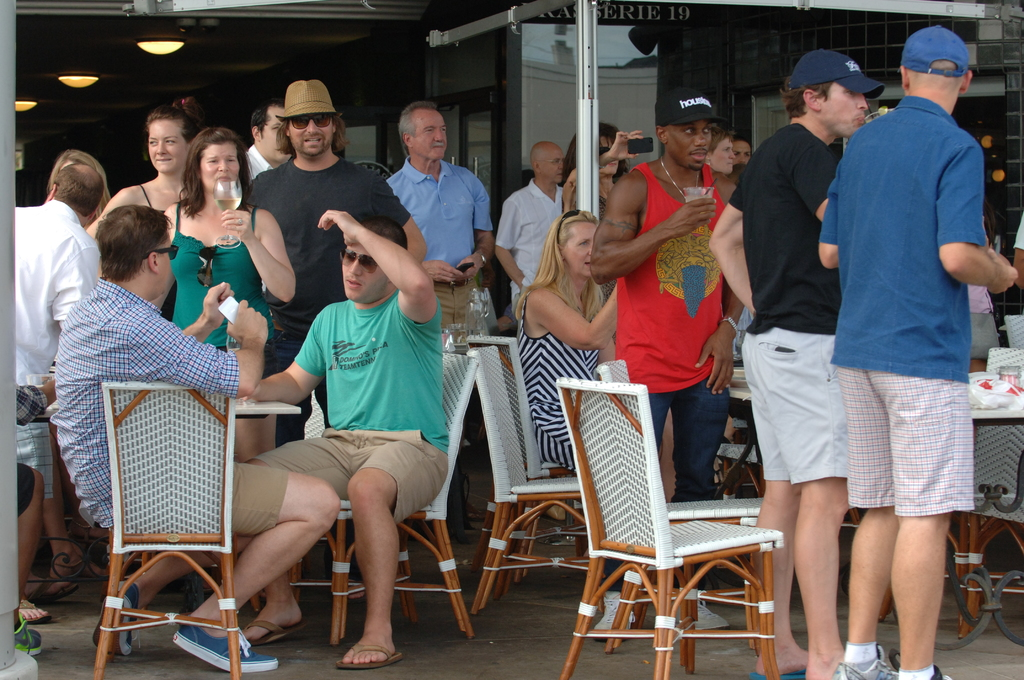Footwear: (167, 617, 278, 679), (833, 645, 950, 679), (93, 581, 129, 656), (590, 594, 639, 641), (15, 612, 44, 654), (694, 597, 727, 631), (466, 505, 485, 518)
